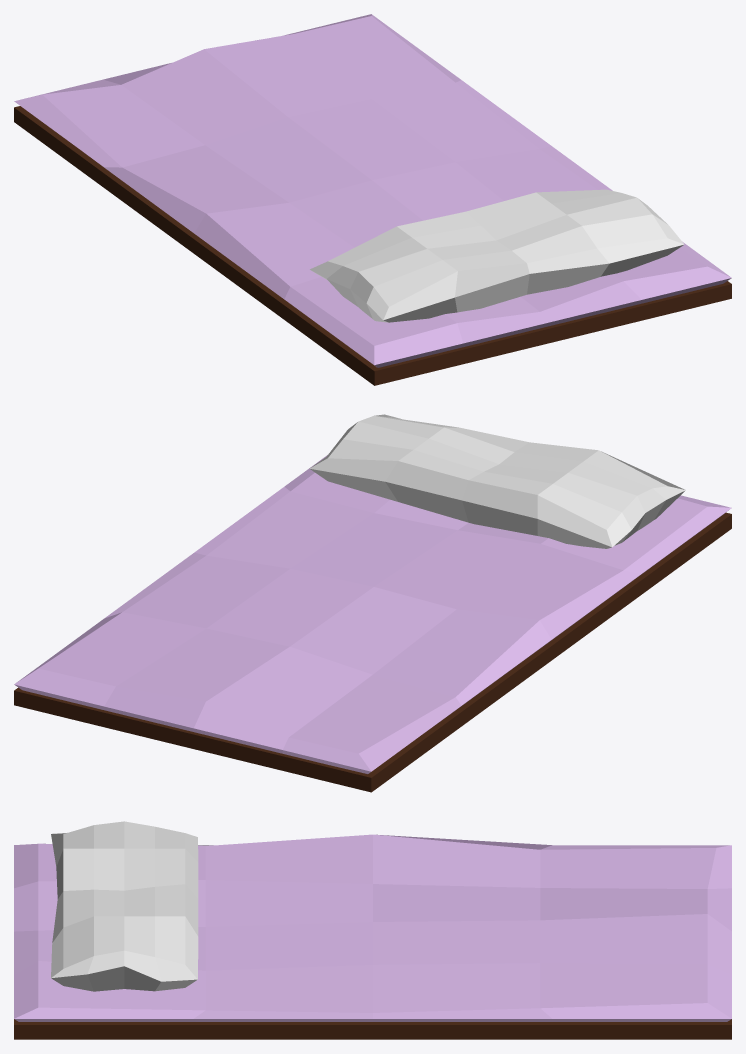
File: caminha.fbx
3 renders of one model, top to bottom at view 1: azimuth 30°, elevation 25°; view 2: azimuth 150°, elevation 25°; view 3: azimuth 270°, elevation 25°, orthographic.
Parts seen in each view (by area): view 1: cochuda, trabicero, madera; view 2: cochuda, trabicero, madera; view 3: cochuda, trabicero, madera.
Boxes of the visible parts, x1=… form: cochuda: x1=14, y1=14, x2=731, y2=367; trabicero: x1=310, y1=189, x2=684, y2=322; madera: x1=14, y1=106, x2=731, y2=385; cochuda: x1=14, y1=455, x2=731, y2=773; trabicero: x1=309, y1=414, x2=685, y2=548; madera: x1=14, y1=512, x2=731, y2=792; cochuda: x1=14, y1=834, x2=731, y2=1021; trabicero: x1=51, y1=821, x2=198, y2=991; madera: x1=14, y1=1019, x2=731, y2=1039.
Bounding box in the file's own units: 234 × 43.9 × 409.
